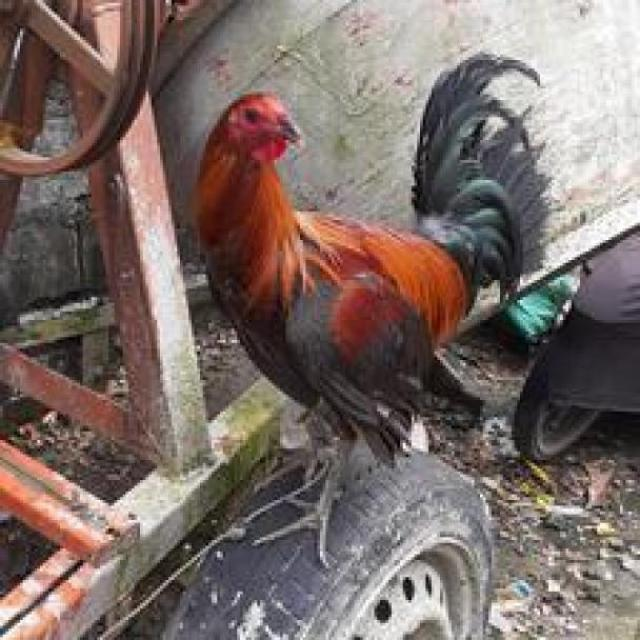Chicken: (194, 47, 566, 560)
